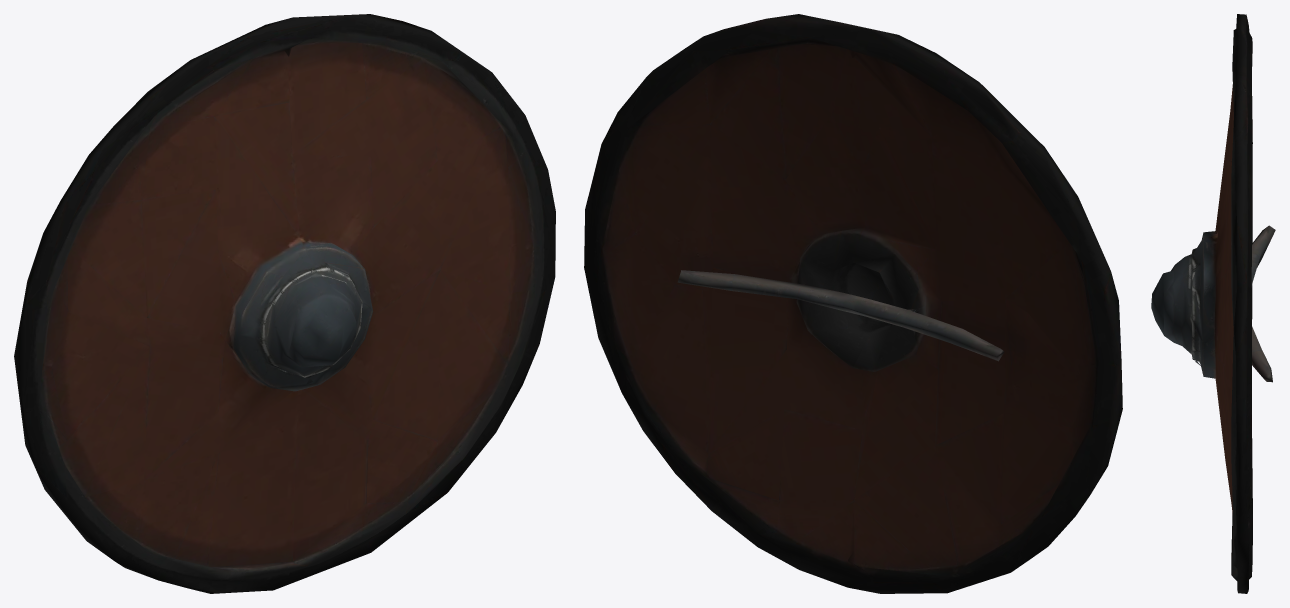
The model's file is wpn_khien-tron-ng.glb.
3 renders of one model, left to right at view 1: azimuth 30°, elevation 25°; view 2: azimuth 150°, elevation 25°; view 3: azimuth 270°, elevation 25°, orthographic. The views are drawn at different scales.
Size of the model in its own units: 1.89 by 1.89 by 0.4057.
Materials: 1 (1 with a texture image).
